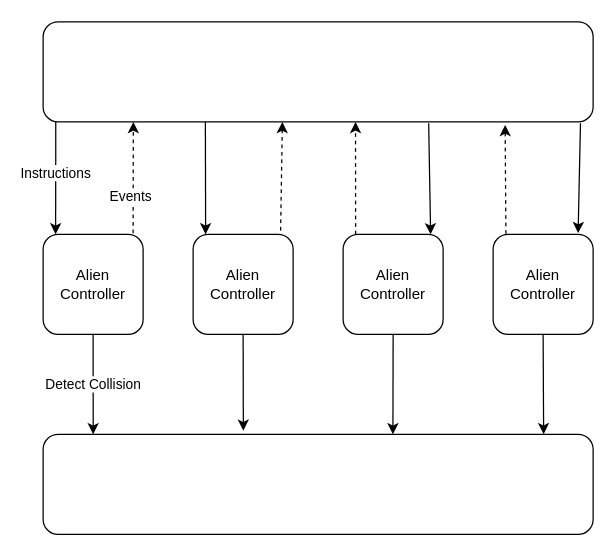
Some shapes in this 616 by 556 pixel diagram are drawn without their labels. Here are the shapes that lost their labels. From the top down, the centre of each, then its label:
point 317,71: Armada Controller
point 317,483: Other GameObjects (Player, Bullet, Border, Etc...)
